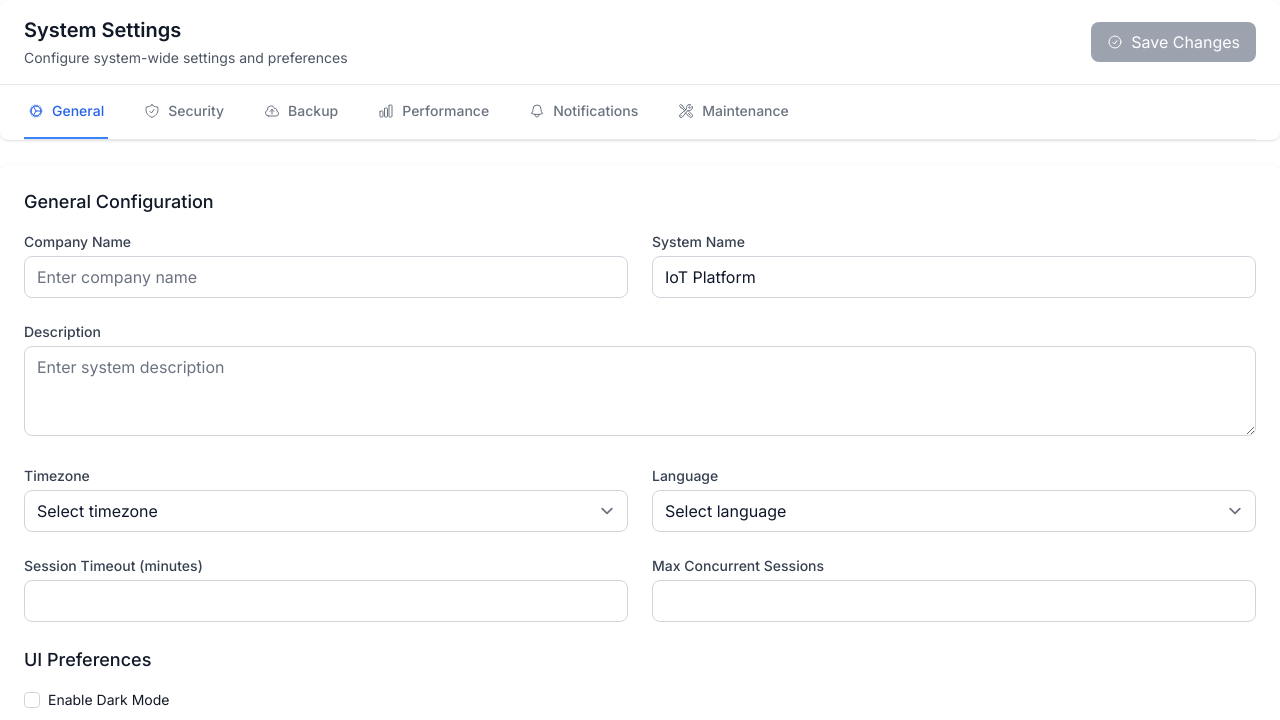
Test case: SystemSettings › shows loading state when saving
Replace the text in the field showing "IoT Platform" with "New IoT Platform". click: (954, 277)
box: [652,256,1256,298]
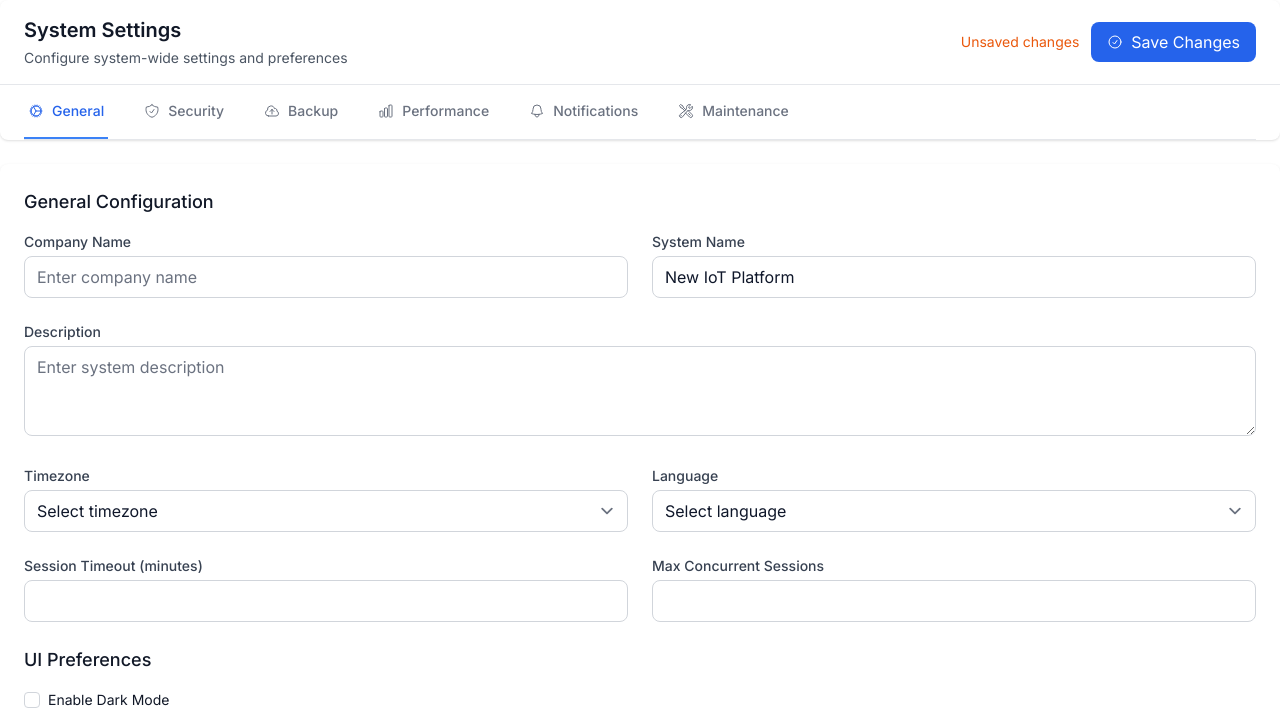
Click the button "Save Changes". click: (1174, 42)
box: [1091,22,1256,62]
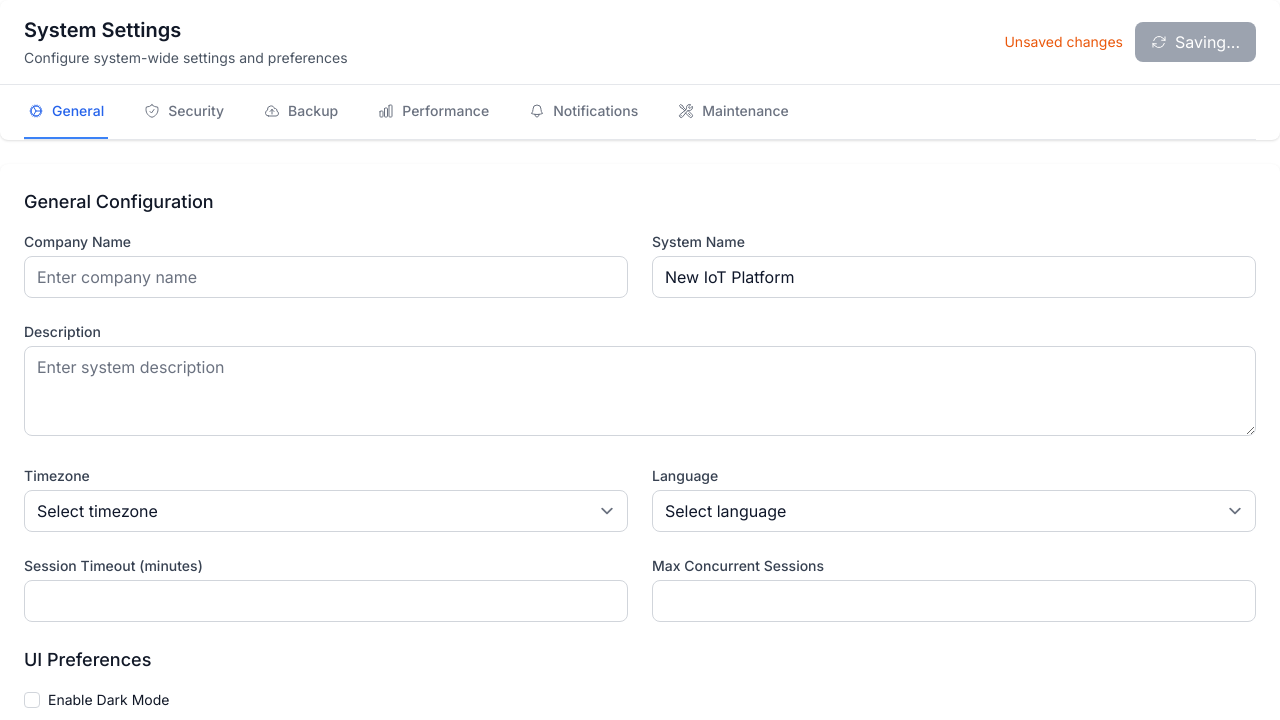
Expected: the text "Saving..." is shown, [1175,30,1240,54]
